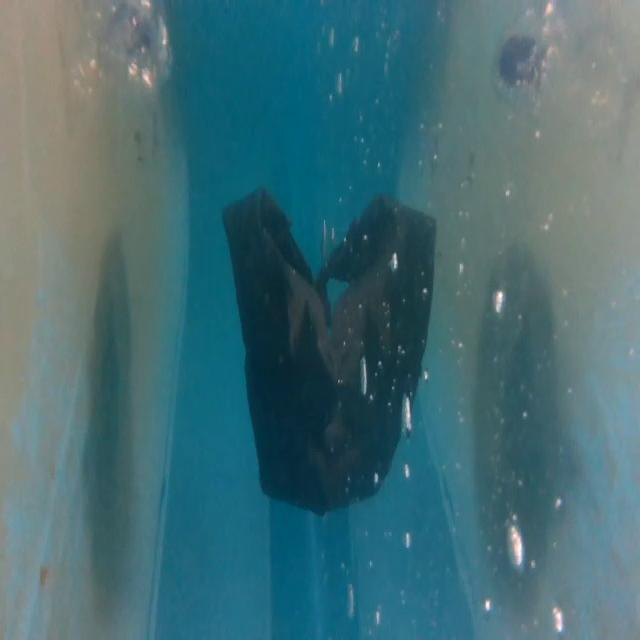plastic bags: (213, 178, 442, 522)
